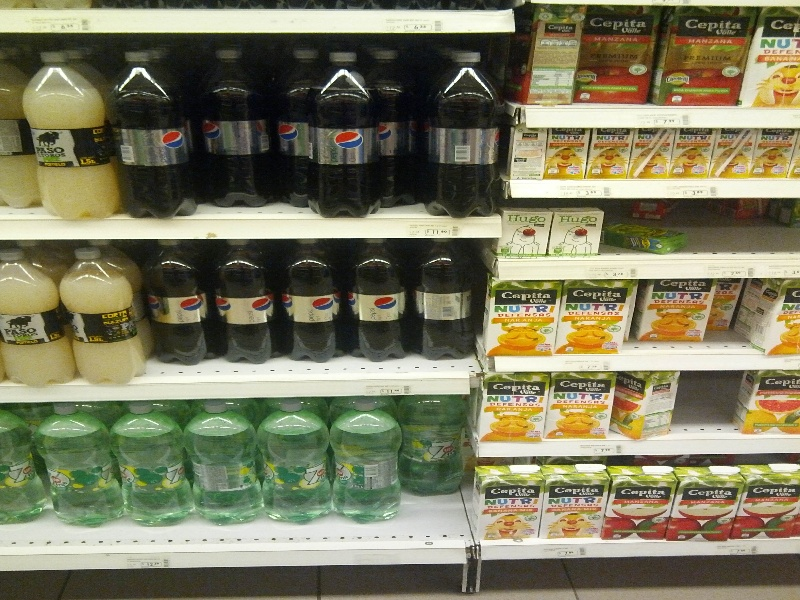juice: (667, 464, 748, 541), (462, 373, 551, 441), (540, 465, 611, 541), (738, 461, 800, 546), (472, 465, 538, 539), (606, 464, 670, 540), (550, 374, 611, 442)
lemonade: (18, 50, 124, 218), (301, 50, 384, 221), (424, 53, 508, 219), (57, 248, 154, 388), (192, 48, 275, 210), (36, 402, 119, 532), (330, 401, 408, 526), (114, 403, 189, 530), (343, 237, 416, 364), (262, 399, 332, 523), (276, 238, 344, 365), (190, 402, 259, 526)
